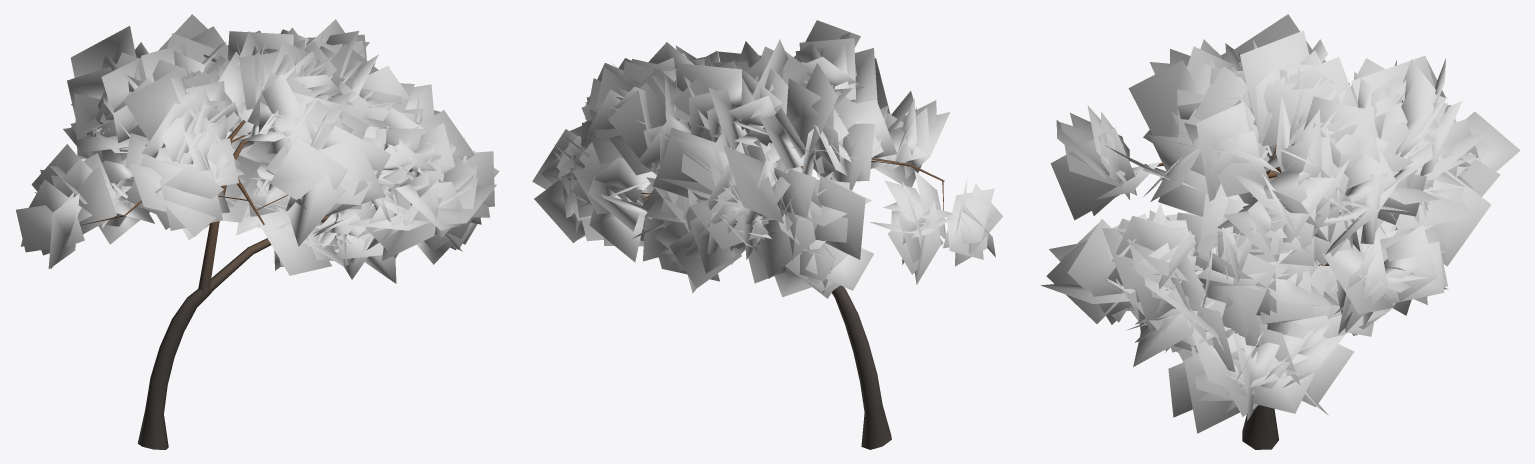
3 views of the same model, side by side, from view 1: azimuth 30°, elevation 25°; view 2: azimuth 150°, elevation 25°; view 3: azimuth 270°, elevation 25° (orthographic). The views are drawn at different scales.
Parts seen in each view (by area): view 1: crown, trunk; view 2: crown, trunk; view 3: crown, trunk.
Boxes of the visible parts, x1,y1,x2,y2 form: crown: [16, 14, 499, 283]; trunk: [80, 120, 336, 449]; crown: [532, 20, 1002, 298]; trunk: [641, 127, 944, 449]; crown: [1041, 14, 1520, 433]; trunk: [1136, 144, 1329, 449].
Size of the model in its own units: 13.18 by 9.98 by 10.04.
